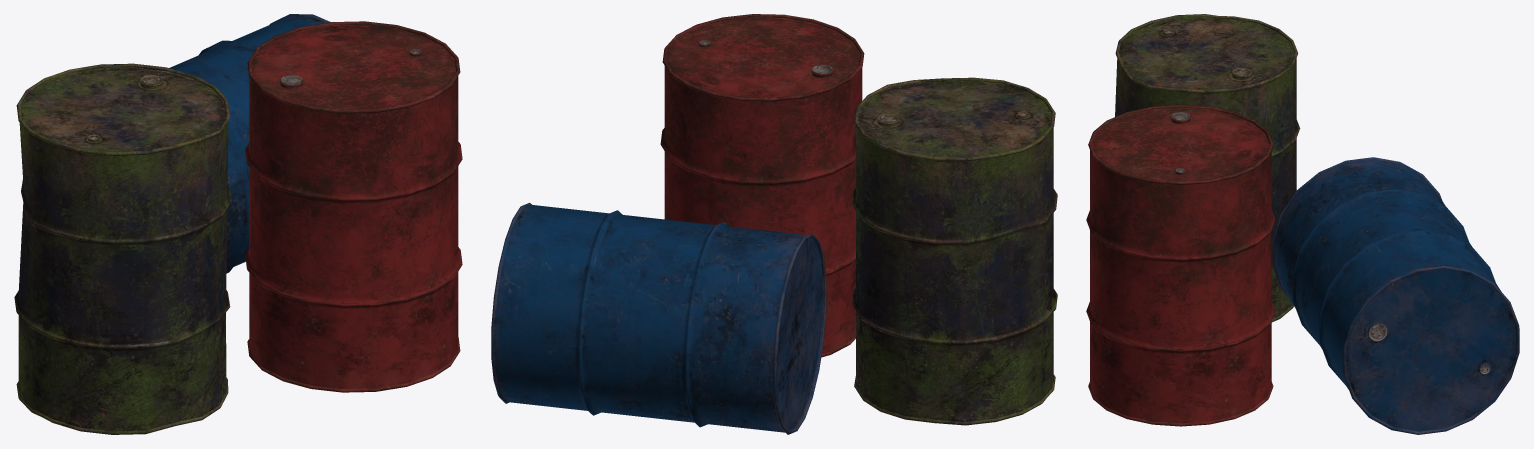
File: sf-drums.glb
3 renders of one model, left to right at view 1: azimuth 30°, elevation 25°; view 2: azimuth 150°, elevation 25°; view 3: azimuth 270°, elevation 25°, orthographic. The views are drawn at different scales.
Visible parts, largest first — view 1: Red_Drum_low, Damaged_Drum_low, Blue_Drum_low; view 2: Damaged_Drum_low, Blue_Drum_low, Red_Drum_low; view 3: Red_Drum_low, Blue_Drum_low, Damaged_Drum_low.
Boxes of the visible parts, x1,y1,x2,y2 form: Red_Drum_low: (245,21,462,392); Damaged_Drum_low: (14,63,231,434); Blue_Drum_low: (169,14,330,273); Damaged_Drum_low: (852,77,1057,425); Blue_Drum_low: (491,202,826,434); Red_Drum_low: (660,14,864,357); Red_Drum_low: (1086,104,1275,426); Blue_Drum_low: (1272,157,1519,434); Damaged_Drum_low: (1115,14,1300,322).
Bounding box in the file's own units: 1.81 × 1.08 × 1.73.
3 materials, 3 textured.
